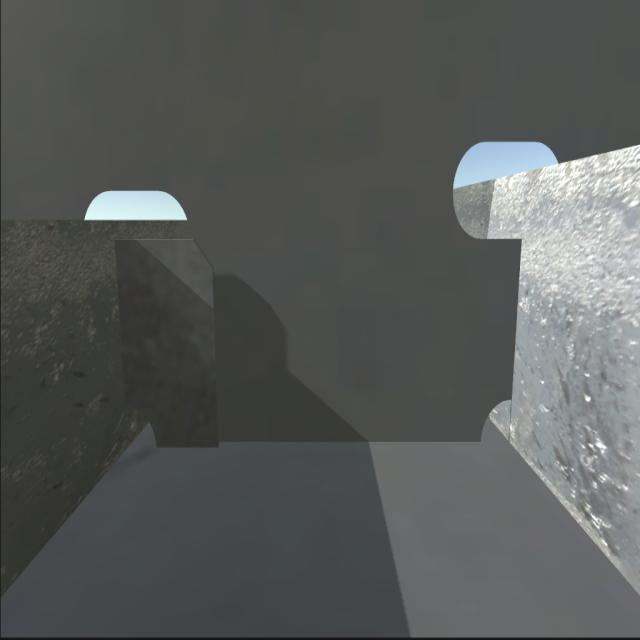fillet_hole: (474, 393, 515, 443), (128, 409, 158, 449)
fillet_yong_jeop_jang: (157, 434, 482, 456)
longi_yong_jeop_jang: (114, 242, 136, 408), (505, 240, 524, 398)
plate_CP03: (115, 241, 218, 445)
